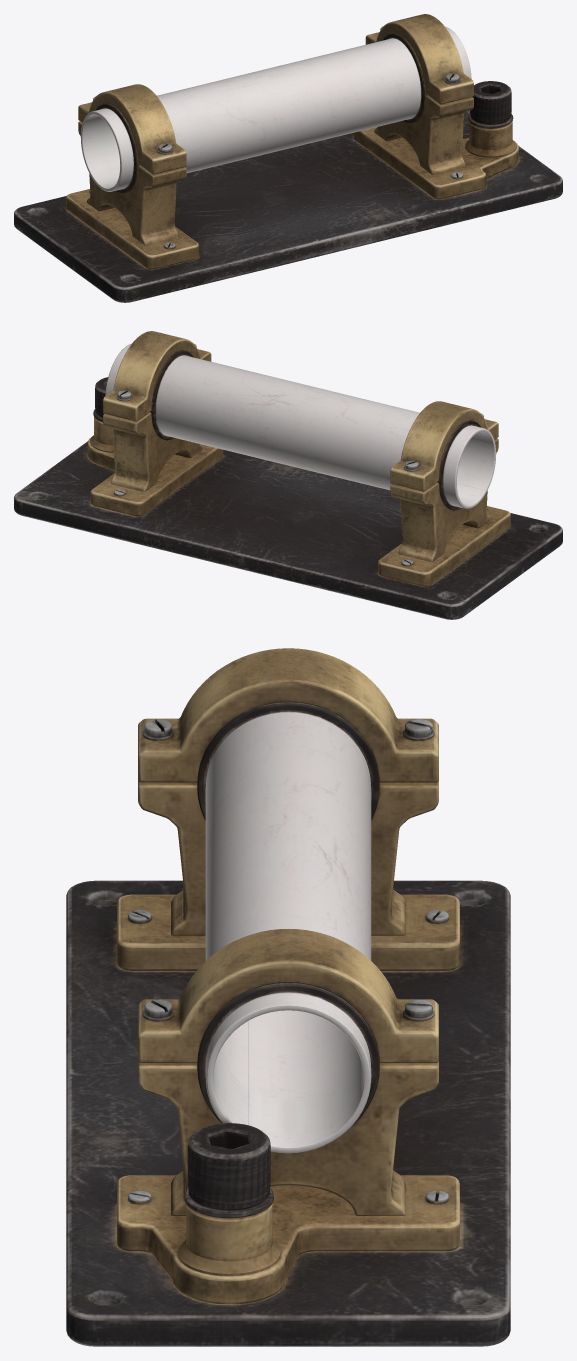
Rendered from grano.glb.
3 views of the same model, one above another, from view 1: azimuth 30°, elevation 25°; view 2: azimuth 150°, elevation 25°; view 3: azimuth 270°, elevation 25° (orthographic). The views are drawn at different scales.
Parts seen in each view (by area): view 1: Chassis | countersunk steel sole plate, Glass_Tube, A | arched pillar saddle, B | radiused flanged sole, A | split bearing crown, B | split bearing crown, B | arched pillar saddle, A | radiused flanged sole, Lock_Screw, B | turned lock boss, B | flanged fibre collet, A | flanged fibre collet; view 2: Chassis | countersunk steel sole plate, Glass_Tube, A | arched pillar saddle, A | split bearing crown, B | split bearing crown, B | arched pillar saddle, B | radiused flanged sole, A | radiused flanged sole, B | flanged fibre collet, B | turned lock boss, A | flanged fibre collet; view 3: Chassis | countersunk steel sole plate, Glass_Tube, B | radiused flanged sole, B | split bearing crown, A | split bearing crown, B | arched pillar saddle, A | arched pillar saddle, A | radiused flanged sole, Lock_Screw, B | turned lock boss, B | flanged fibre collet, A | flanged fibre collet (+1 smaller).
Boxes of the visible parts, <box> form: Chassis | countersunk steel sole plate: <box>14,110,562,302</box>; Glass_Tube: <box>80,26,471,191</box>; A | arched pillar saddle: <box>78,121,186,244</box>; B | radiused flanged sole: <box>353,127,518,199</box>; A | split bearing crown: <box>78,84,186,174</box>; B | split bearing crown: <box>365,14,473,104</box>; B | arched pillar saddle: <box>374,95,473,174</box>; A | radiused flanged sole: <box>66,189,198,269</box>; Lock_Screw: <box>470,81,511,124</box>; B | turned lock boss: <box>465,121,516,157</box>; B | flanged fibre collet: <box>383,33,426,123</box>; A | flanged fibre collet: <box>95,103,139,193</box>; Chassis | countersunk steel sole plate: <box>14,441,562,619</box>; Glass_Tube: <box>105,343,496,508</box>; A | arched pillar saddle: <box>390,438,498,561</box>; A | split bearing crown: <box>390,401,498,491</box>; B | split bearing crown: <box>103,331,211,421</box>; B | arched pillar saddle: <box>103,412,202,491</box>; B | radiused flanged sole: <box>87,436,223,516</box>; A | radiused flanged sole: <box>378,506,510,586</box>; B | flanged fibre collet: <box>150,350,193,440</box>; B | turned lock boss: <box>90,417,113,452</box>; A | flanged fibre collet: <box>437,420,481,510</box>; Chassis | countersunk steel sole plate: <box>66,880,510,1346</box>; Glass_Tube: <box>205,711,371,1153</box>; B | radiused flanged sole: <box>117,1175,459,1304</box>; B | split bearing crown: <box>138,929,438,1063</box>; A | split bearing crown: <box>138,648,438,782</box>; B | arched pillar saddle: <box>138,1061,438,1215</box>; A | arched pillar saddle: <box>138,781,438,935</box>; A | radiused flanged sole: <box>117,894,459,970</box>; Lock_Screw: <box>187,1123,270,1210</box>; B | turned lock boss: <box>178,1203,280,1275</box>; B | flanged fibre collet: <box>197,982,379,1125</box>; A | flanged fibre collet: <box>197,702,379,820</box>.
Bounding box in the file's own units: 2 × 0.6667 × 0.8571.
1 material, 1 textured.
